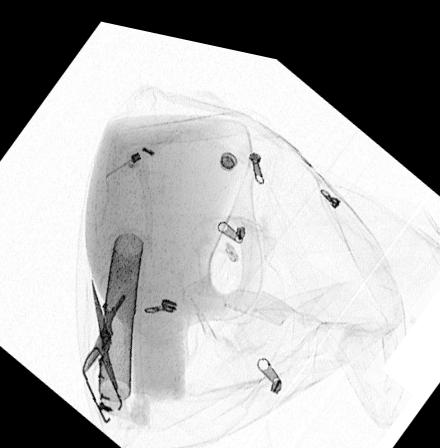Scissors: (80, 253, 137, 417)
